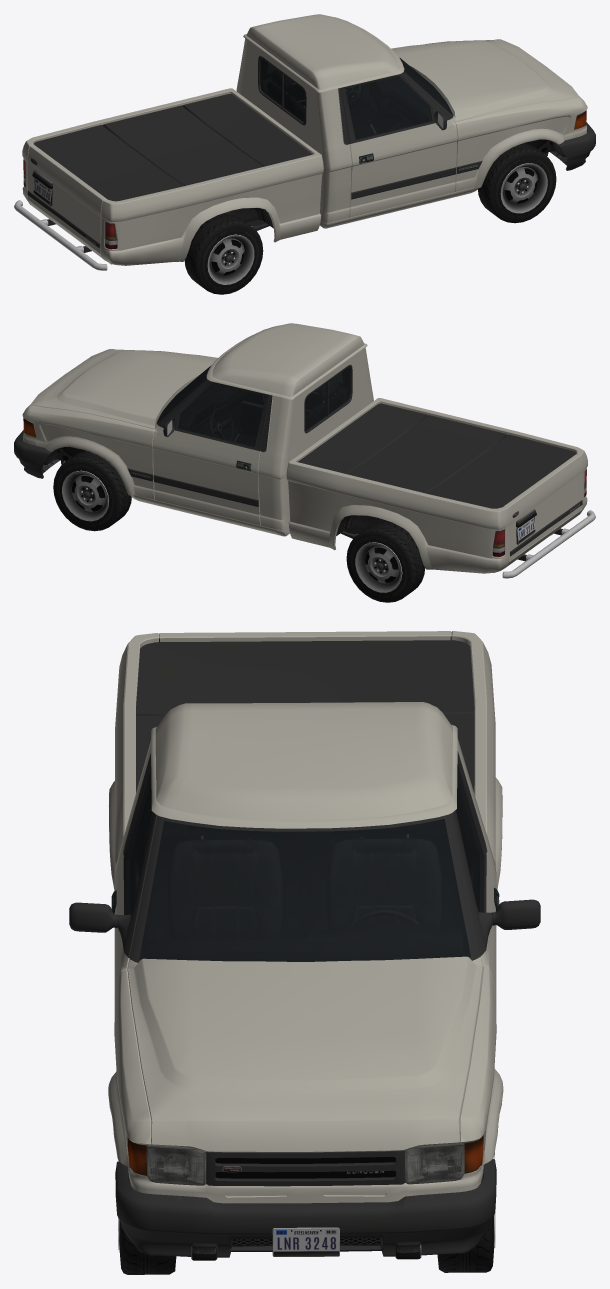
File: service_pickup.a5d140f4efb9.glb
3 renders of one model, top to bottom at view 1: azimuth 30°, elevation 25°; view 2: azimuth 150°, elevation 25°; view 3: azimuth 270°, elevation 25°, orthographic. The views are drawn at different scales.
Parts seen in each view (by area): view 1: CnqerP89_Body_CnqerP89_Bodymat_0, CnqerP89_Trunk_Cover_UCB_BOTTOM_0, CnqerP89_hood_CnqerP89_Bodymat_0, CnqerP89_Interior_UCB_Interiors_2_0, CnqerP89_WheelStock_RR_RB1c_Tire_1k_0, CnqerP89_WheelStock_FR_RB1c_Tire_1k_0, CnqerP89_Bottom_UCB_BOTTOM_0, CnqerP89_Glass_Passenger_UCB_Lights_and_Glass_Transperent_0, CnqerP89_Trunkdoor_CnqerP89_Bodymat_0, CnqerP89_Rear_glass_UCB_Lights_and_Glass_Transperent_0, CnqerP89_front_bumper_UCB_BOTTOM_0, CnqerP89_bumper_rear_UCB_BOTTOM_0 (+3 smaller); view 2: CnqerP89_Body_CnqerP89_Bodymat_0, CnqerP89_Trunk_Cover_UCB_BOTTOM_0, CnqerP89_hood_CnqerP89_Bodymat_0, CnqerP89_WheelStock_RL_RB1c_Tire_1k_0, CnqerP89_Interior_UCB_Interiors_2_0, CnqerP89_WheelStock_FL_RB1c_Tire_1k_0, CnqerP89_Bottom_UCB_BOTTOM_0, CnqerP89_Glass_Driver_UCB_Lights_and_Glass_Transperent_0, CnqerP89_Trunkdoor_CnqerP89_Bodymat_0, CnqerP89_Rear_glass_UCB_Lights_and_Glass_Transperent_0, CnqerP89_front_bumper_UCB_BOTTOM_0, CnqerP89_bumper_rear_UCB_BOTTOM_0 (+3 smaller); view 3: CnqerP89_Body_CnqerP89_Bodymat_0, CnqerP89_hood_CnqerP89_Bodymat_0, CnqerP89_Interior_UCB_Interiors_2_0, CnqerP89_Windshield_UCB_Lights_and_Glass_Transperent_0, CnqerP89_Trunk_Cover_UCB_BOTTOM_0, CnqerP89_front_bumper_UCB_BOTTOM_0, CnqerP89_Bottom_UCB_BOTTOM_0, CnqerP89_Headlights_Glass_UCB_Lights_and_Glass_Transperent_0, CnqerP89_Headlights_UCB_Lights_and_Glass_0, CnqerP89_Trunkdoor_CnqerP89_Bodymat_0, CnqerP89_NP_Stock_Front_Numberplates_Misk_U_0, CnqerP89_Glass_Driver_UCB_Lights_and_Glass_Transperent_0 (+4 smaller).
Boxes of the visible parts, box(x1,y1,x2,y2) form: CnqerP89_Body_CnqerP89_Bodymat_0: box(22, 14, 587, 265); CnqerP89_Trunk_Cover_UCB_BOTTOM_0: box(34, 94, 312, 201); CnqerP89_hood_CnqerP89_Bodymat_0: box(391, 40, 583, 121); CnqerP89_Interior_UCB_Interiors_2_0: box(262, 59, 451, 138); CnqerP89_WheelStock_RR_RB1c_Tire_1k_0: box(184, 214, 263, 294); CnqerP89_WheelStock_FR_RB1c_Tire_1k_0: box(478, 143, 556, 223); CnqerP89_Bottom_UCB_BOTTOM_0: box(46, 56, 565, 264); CnqerP89_Glass_Passenger_UCB_Lights_and_Glass_Transperent_0: box(345, 76, 432, 139); CnqerP89_Trunkdoor_CnqerP89_Bodymat_0: box(28, 145, 106, 253); CnqerP89_Rear_glass_UCB_Lights_and_Glass_Transperent_0: box(260, 58, 305, 122); CnqerP89_front_bumper_UCB_BOTTOM_0: box(550, 122, 595, 170); CnqerP89_bumper_rear_UCB_BOTTOM_0: box(14, 200, 107, 270); CnqerP89_Body_CnqerP89_Bodymat_0: box(22, 323, 587, 573); CnqerP89_Trunk_Cover_UCB_BOTTOM_0: box(298, 403, 576, 508); CnqerP89_hood_CnqerP89_Bodymat_0: box(26, 349, 217, 429); CnqerP89_WheelStock_RL_RB1c_Tire_1k_0: box(346, 522, 425, 602); CnqerP89_Interior_UCB_Interiors_2_0: box(159, 368, 348, 445); CnqerP89_WheelStock_FL_RB1c_Tire_1k_0: box(53, 451, 131, 531); CnqerP89_Bottom_UCB_BOTTOM_0: box(44, 364, 562, 561); CnqerP89_Glass_Driver_UCB_Lights_and_Glass_Transperent_0: box(178, 383, 265, 447); CnqerP89_Trunkdoor_CnqerP89_Bodymat_0: box(503, 454, 582, 561); CnqerP89_Rear_glass_UCB_Lights_and_Glass_Transperent_0: box(305, 367, 350, 430); CnqerP89_front_bumper_UCB_BOTTOM_0: box(14, 430, 60, 478); CnqerP89_bumper_rear_UCB_BOTTOM_0: box(502, 510, 595, 578); CnqerP89_Body_CnqerP89_Bodymat_0: box(108, 631, 503, 1203); CnqerP89_hood_CnqerP89_Bodymat_0: box(127, 956, 482, 1151); CnqerP89_Interior_UCB_Interiors_2_0: box(130, 784, 479, 961); CnqerP89_Windshield_UCB_Lights_and_Glass_Transperent_0: box(139, 819, 470, 961); CnqerP89_Trunk_Cover_UCB_BOTTOM_0: box(136, 640, 474, 792); CnqerP89_front_bumper_UCB_BOTTOM_0: box(115, 1159, 496, 1260); CnqerP89_Bottom_UCB_BOTTOM_0: box(69, 751, 540, 1197); CnqerP89_Headlights_Glass_UCB_Lights_and_Glass_Transperent_0: box(127, 1135, 483, 1185); CnqerP89_Headlights_UCB_Lights_and_Glass_0: box(147, 1144, 463, 1184); CnqerP89_Trunkdoor_CnqerP89_Bodymat_0: box(159, 631, 451, 641); CnqerP89_NP_Stock_Front_Numberplates_Misk_U_0: box(272, 1227, 339, 1256); CnqerP89_Glass_Driver_UCB_Lights_and_Glass_Transperent_0: box(456, 765, 484, 912).
Size of the model in its own units: 5.22 by 1.85 by 2.1.
Materials: 8 (7 with a texture image).
